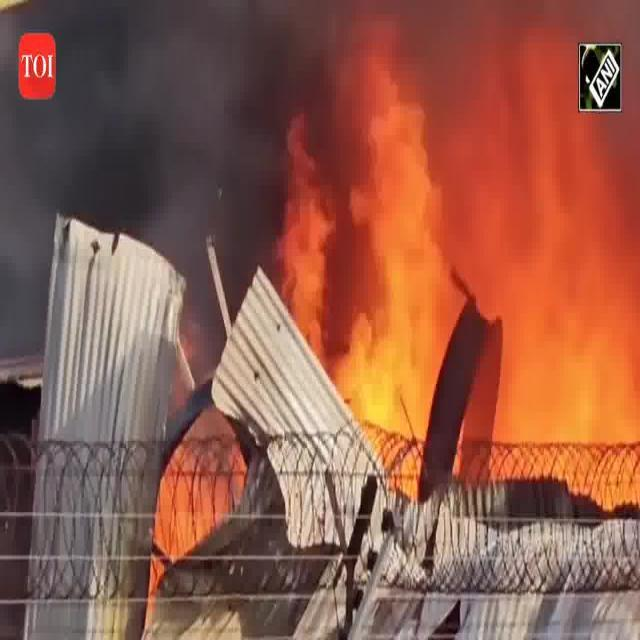Fire: (198, 203, 638, 577)
